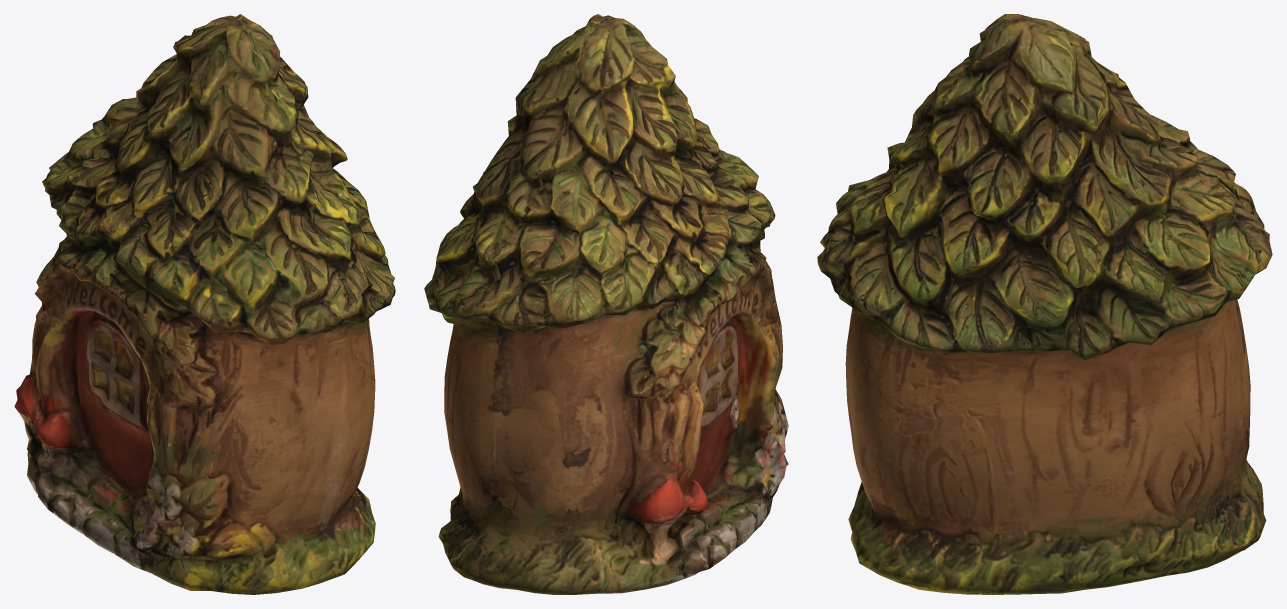
File: cottage_leafhut.glb
3 renders of one model, left to right at view 1: azimuth 30°, elevation 25°; view 2: azimuth 150°, elevation 25°; view 3: azimuth 270°, elevation 25°, orthographic. The views are drawn at different scales.
Parts seen in each view (by area): view 1: cottage_leafhut; view 2: cottage_leafhut; view 3: cottage_leafhut.
Part boxes in pixels (x1,y1,x2,y2): cottage_leafhut: (14,14,395,594); cottage_leafhut: (424,14,788,594); cottage_leafhut: (817,14,1272,594).
Bounding box in the file's own units: 2.54 × 4.5 × 3.47.
Materials: 1 (1 with a texture image).
